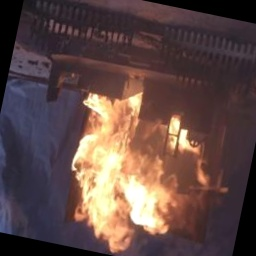fire: (42, 66, 239, 256)
